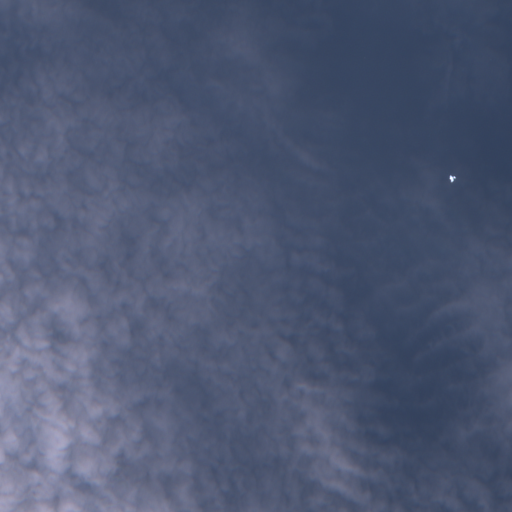Iceberg: (449, 175, 455, 182)
